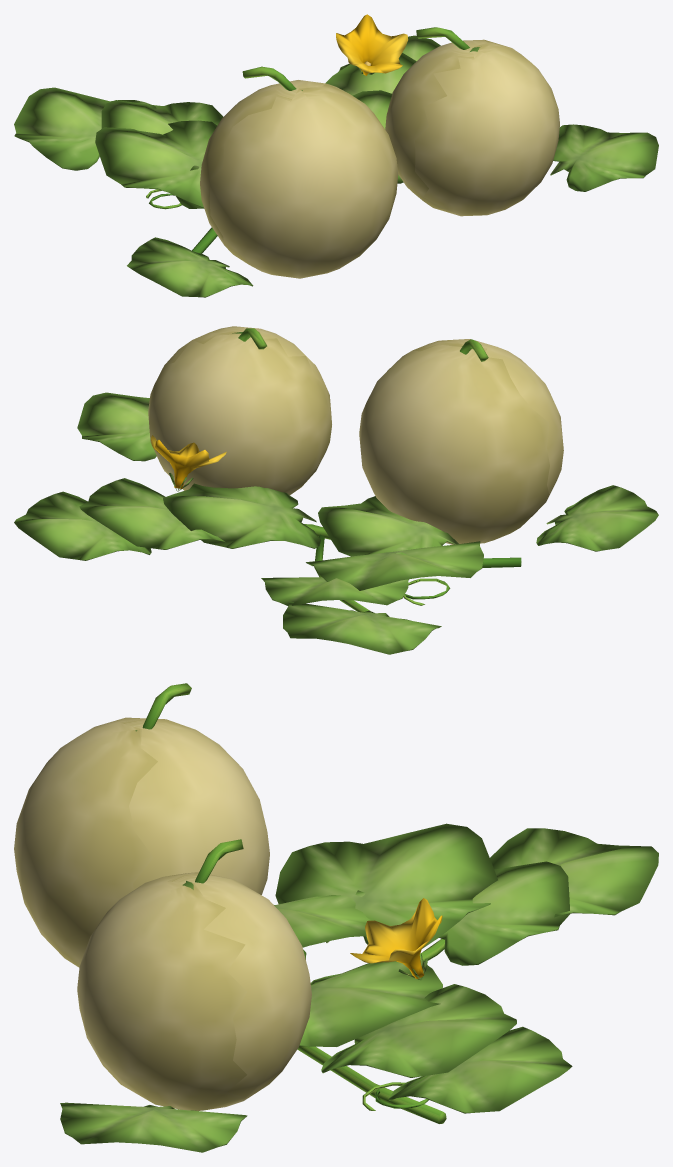
Rendered from NP_Melon_Ready_LOD1.fbx.
The picture shows the model from 3 angles, top to bottom: view 1: azimuth 30°, elevation 25°; view 2: azimuth 150°, elevation 25°; view 3: azimuth 270°, elevation 25°; orthographic projection. The views are drawn at different scales.
Visible parts, largest first — view 1: NP_Melon_Ready; view 2: NP_Melon_Ready; view 3: NP_Melon_Ready.
Part boxes in pixels (x1,y1,x2,y2): NP_Melon_Ready: (14,14,658,297); NP_Melon_Ready: (14,326,658,654); NP_Melon_Ready: (14,683,658,1152).
Bounding box in the file's own units: 109 × 39.87 × 85.97.
